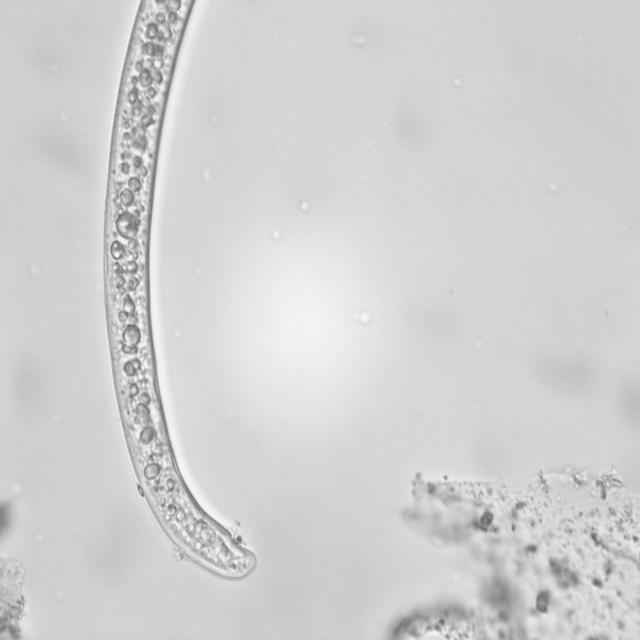Helicotylenchus: (101, 0, 266, 586)
